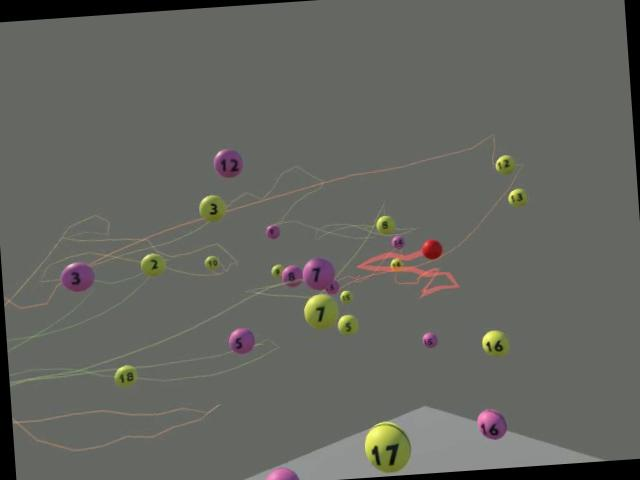ball_02_yellow: (138, 251, 165, 277)
ball_03_pink: (58, 260, 94, 292)
ball_03_yellow: (196, 192, 226, 222)
ball_05_pink: (227, 326, 255, 354)
ball_05_yellow: (336, 313, 358, 334)
ball_07_pink: (300, 255, 334, 290)
ball_07_yellow: (302, 292, 338, 329)
ball_08_pink: (280, 264, 302, 286)
ball_08_yellow: (374, 214, 394, 234)
ball_09_pink: (264, 223, 280, 239)
ball_09_yellow: (270, 262, 282, 278)
ball_10_yellow: (203, 254, 219, 270)
ball_12_pink: (212, 146, 244, 178)
ball_12_yellow: (494, 154, 514, 174)
ball_13_yellow: (506, 186, 528, 206)
ball_14_pink: (390, 233, 404, 249)
ball_15_pink: (421, 331, 436, 347)
ball_15_yellow: (338, 289, 352, 303)
ball_16_pink: (475, 408, 506, 440)
ball_16_yellow: (480, 328, 510, 357)
ball_17_yellow: (362, 419, 412, 474)
ball_18_yellow: (112, 363, 136, 387)
ball_unknown: (262, 465, 298, 480), (322, 279, 339, 294), (388, 256, 404, 270)
user_cursor: (420, 238, 442, 260)
